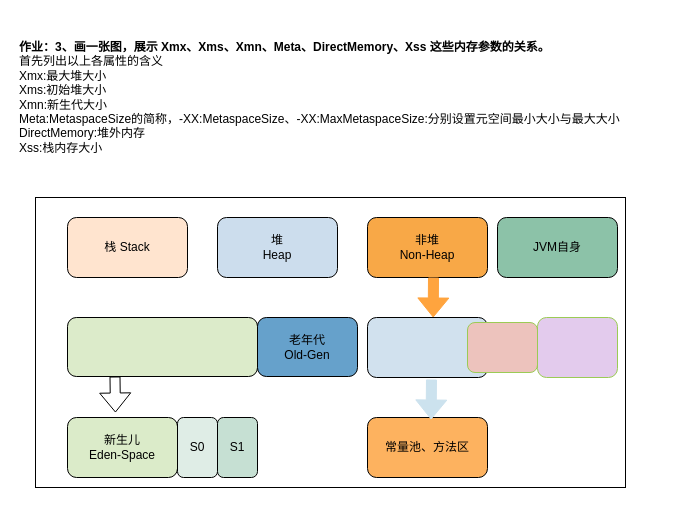
This 694x505 diagram has some shape labels left out. Here are the shapes that lost their labels. From the top down, the centre of each, then its label:
[162,346]: 年轻代 Youg-gen
[427,347]: 元数据区 Metaspace
[502,347]: Compressed Class Space
[577,347]: Code cache
